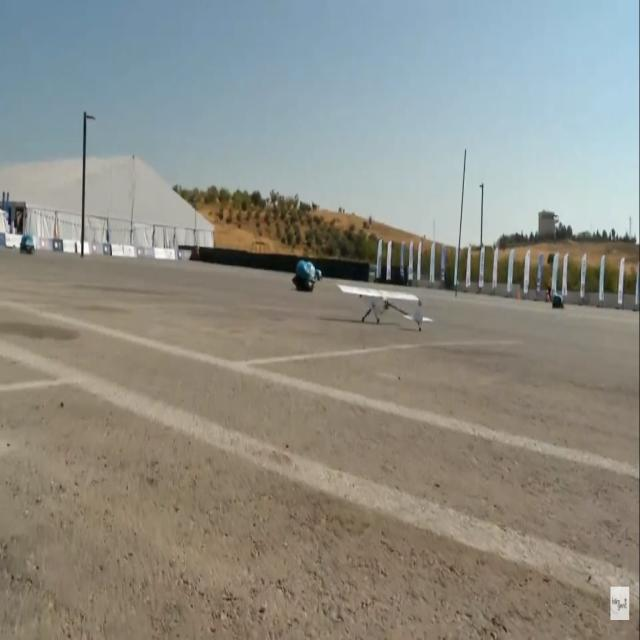iha: (368, 282, 401, 333)
